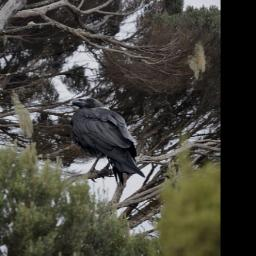Crow: (70, 96, 145, 190)
